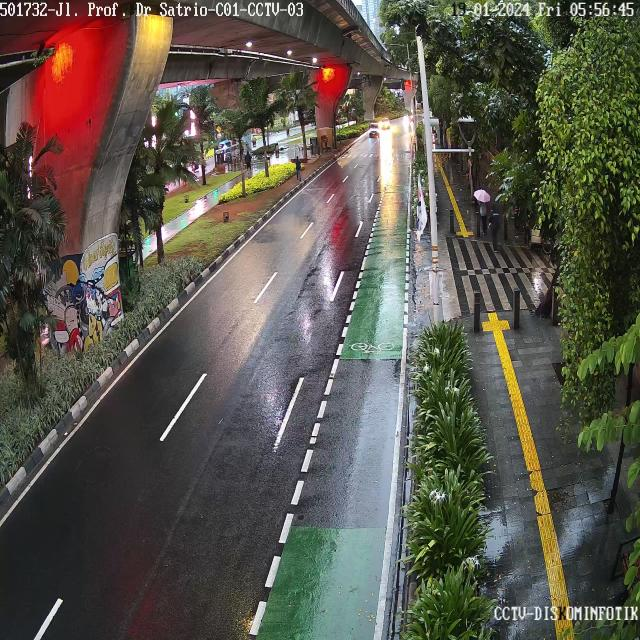Payung: (472, 187, 493, 203)
